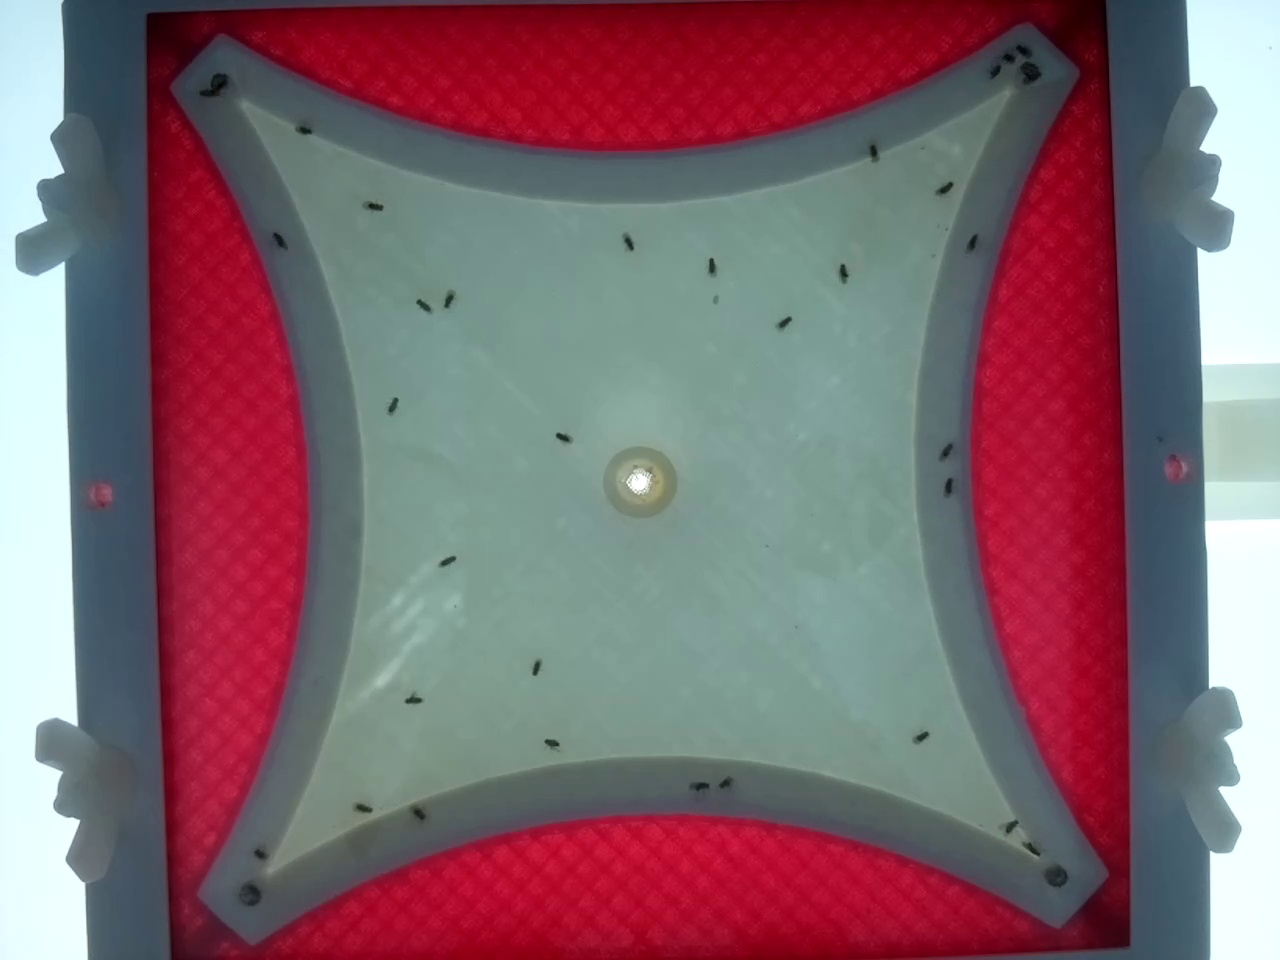fly: (206, 74, 231, 99), (359, 194, 384, 219), (860, 136, 885, 161), (963, 224, 988, 249), (264, 224, 289, 249), (615, 229, 640, 254), (771, 310, 796, 335), (291, 117, 316, 142), (380, 394, 405, 419), (934, 436, 959, 461), (550, 425, 575, 450), (602, 448, 627, 473), (908, 723, 933, 748), (400, 686, 425, 711), (348, 795, 373, 820), (997, 814, 1022, 839), (246, 841, 271, 866), (538, 731, 563, 756), (1020, 836, 1045, 861), (406, 801, 431, 826), (238, 874, 263, 899), (931, 175, 956, 200), (190, 80, 215, 105), (982, 61, 1007, 85), (411, 293, 436, 318), (831, 260, 856, 285), (1007, 37, 1032, 62), (699, 254, 724, 279), (992, 45, 1017, 70), (935, 470, 959, 495), (434, 548, 459, 573), (523, 655, 548, 680), (712, 771, 737, 796), (436, 287, 461, 312), (686, 773, 711, 798)
